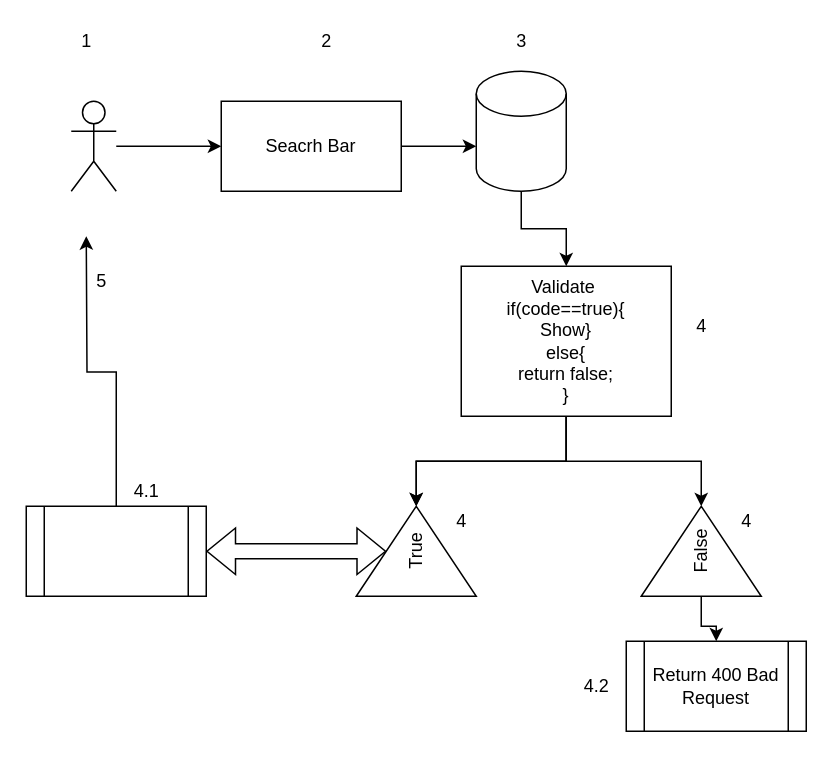
This 833x758 diagram has some shape labels left out. Here are the shapes that lost their labels. From the top down, the centre of each, then its label:
the point at 93,145: User Window
the point at 520,130: Nodejs app.get
the point at 115,550: Return requested Data
